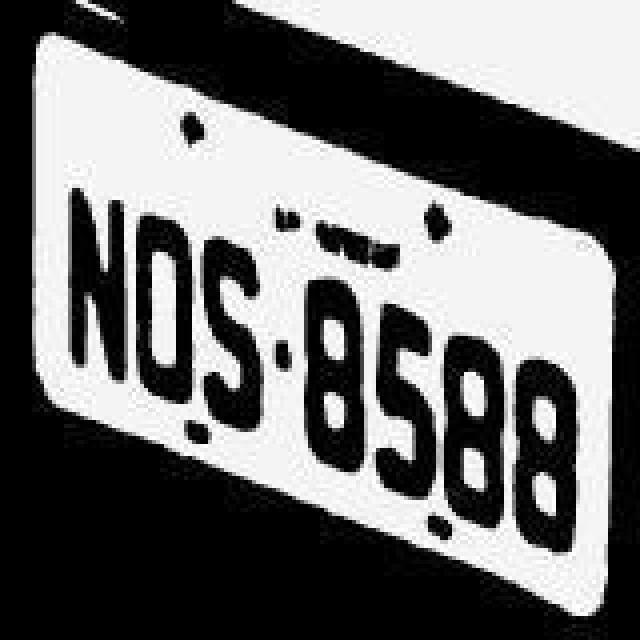5: (370, 278, 438, 506)
8: (508, 320, 588, 568), (290, 262, 366, 490), (440, 288, 512, 528)
N: (58, 152, 134, 392)
O: (126, 198, 202, 418)
S: (192, 234, 272, 430)
